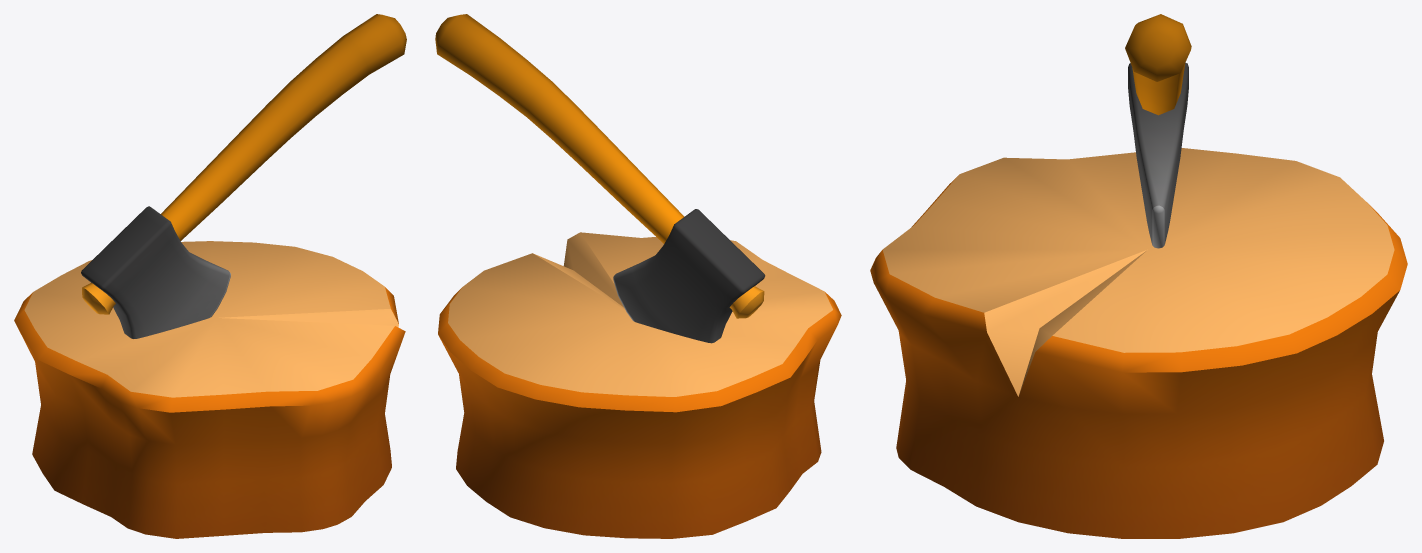
The model's file is Props_Tree_Stump_01.fbx.
The picture shows the model from 3 angles, left to right: view 1: azimuth 30°, elevation 25°; view 2: azimuth 150°, elevation 25°; view 3: azimuth 270°, elevation 25°; orthographic projection. The views are drawn at different scales.
Visible parts, largest first — view 1: Props_Tree_Stump_01; view 2: Props_Tree_Stump_01; view 3: Props_Tree_Stump_01.
Part boxes in pixels (x1,y1,x2,y2): Props_Tree_Stump_01: (14, 14, 406, 538); Props_Tree_Stump_01: (435, 14, 841, 538); Props_Tree_Stump_01: (870, 14, 1407, 538).
Bounding box in the file's own units: 102 × 111 × 101.
